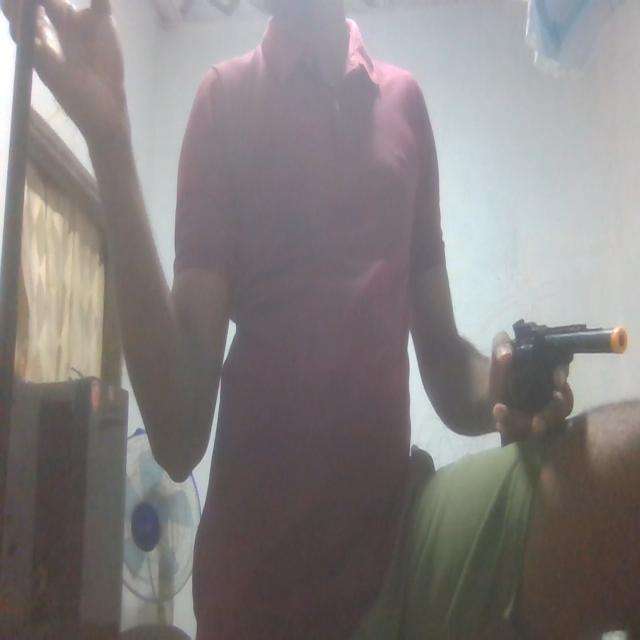Gun_Holder: (486, 304, 640, 457)
Person: (162, 0, 640, 640)
